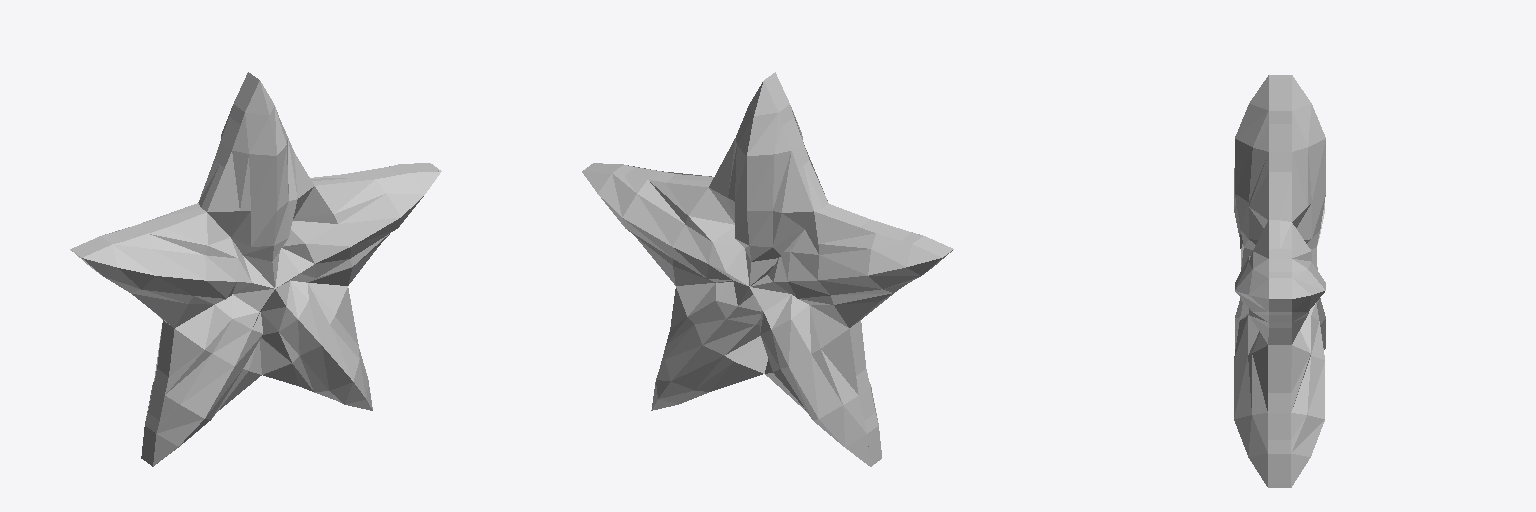
Rendered from Estrella_dorada.obj.
3 views of the same model, side by side, from view 1: azimuth 30°, elevation 25°; view 2: azimuth 150°, elevation 25°; view 3: azimuth 270°, elevation 25° (orthographic).
Parts seen in each view (by area): view 1: pCube12; view 2: pCube12; view 3: pCube12.
Part boxes in pixels (bbox=[...]): pCube12: bbox=[70, 72, 441, 466]; pCube12: bbox=[582, 72, 953, 466]; pCube12: bbox=[1234, 75, 1325, 487].
Size of the model in its own units: 1.08 by 1.03 by 0.2384.